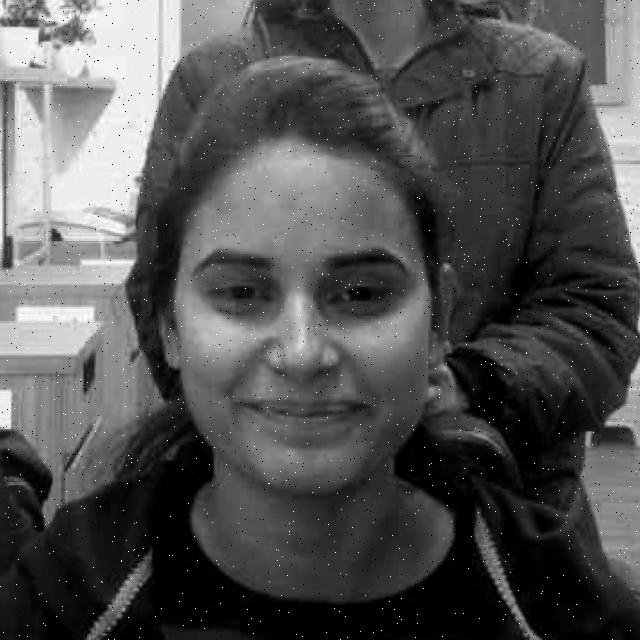puffy_eyes: (314, 280, 388, 327), (210, 303, 270, 316)
